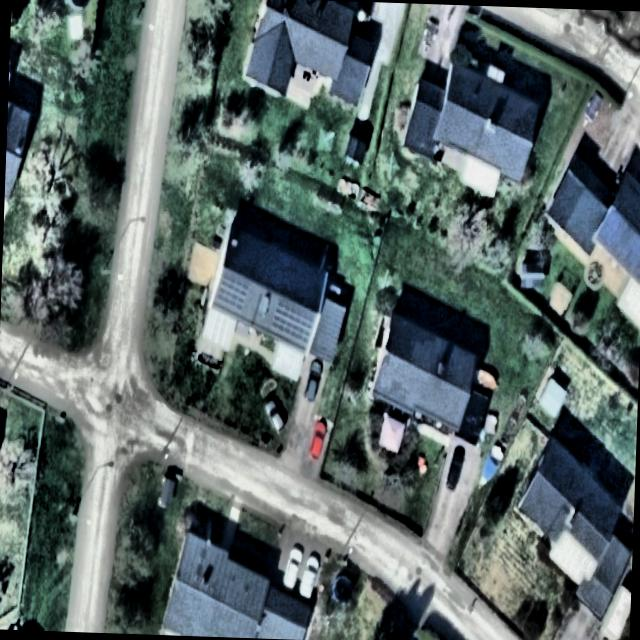roof_pv: (268, 293, 316, 351), (210, 269, 253, 322)
